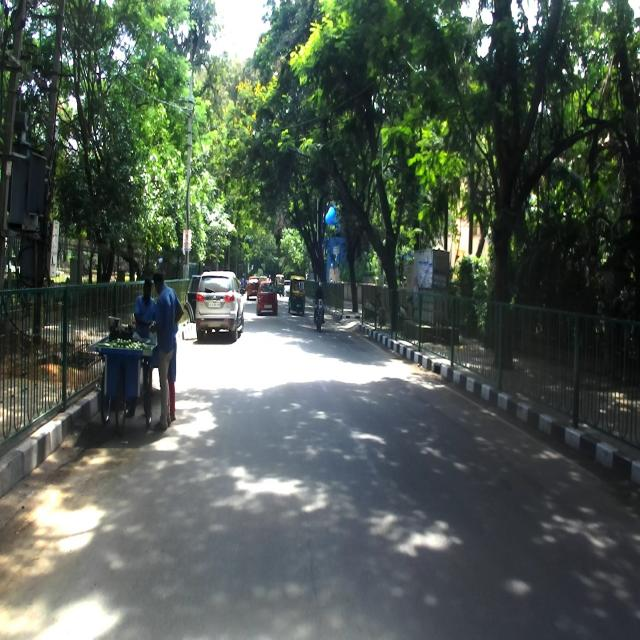Car_TATA: (183, 270, 245, 342)
